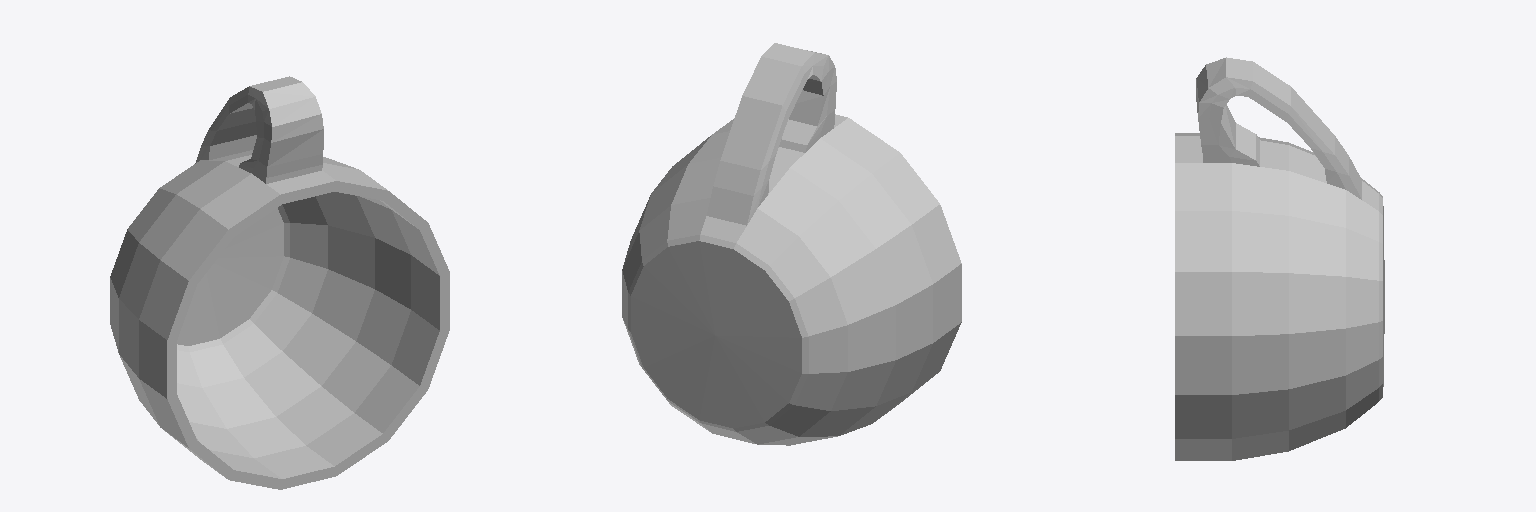
The model's file is cup_01.obj.
3 renders of one model, left to right at view 1: azimuth 30°, elevation 25°; view 2: azimuth 150°, elevation 25°; view 3: azimuth 270°, elevation 25°, orthographic.
Visible parts, largest first — view 1: Cup_Cylinder.004; view 2: Cup_Cylinder.004; view 3: Cup_Cylinder.004.
Boxes of the visible parts, <box> form: Cup_Cylinder.004: <box>110,76,449,489</box>; Cup_Cylinder.004: <box>622,43,961,445</box>; Cup_Cylinder.004: <box>1175,57,1384,460</box>.
Bounding box in the file's own units: 0.2959 × 0.3779 × 0.1909.